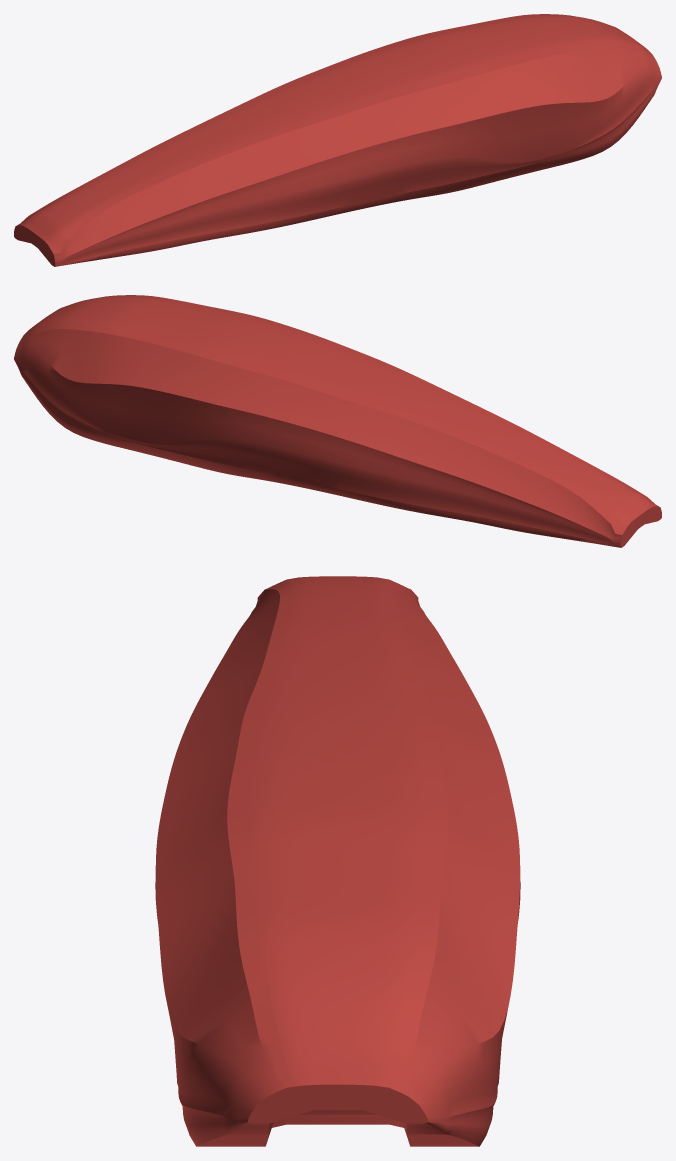
File: bobber_4_lod1.glb
3 renders of one model, top to bottom at view 1: azimuth 30°, elevation 25°; view 2: azimuth 150°, elevation 25°; view 3: azimuth 270°, elevation 25°, orthographic. The views are drawn at different scales.
Visible parts, largest first — view 1: bobber_4_lod1; view 2: bobber_4_lod1; view 3: bobber_4_lod1.
Part boxes in pixels (<box>): bobber_4_lod1: <box>14,14,661,266</box>; bobber_4_lod1: <box>14,295,661,547</box>; bobber_4_lod1: <box>155,576,520,1146</box>.
Size of the model in its own units: 1.06 by 0.1839 by 0.2784.
